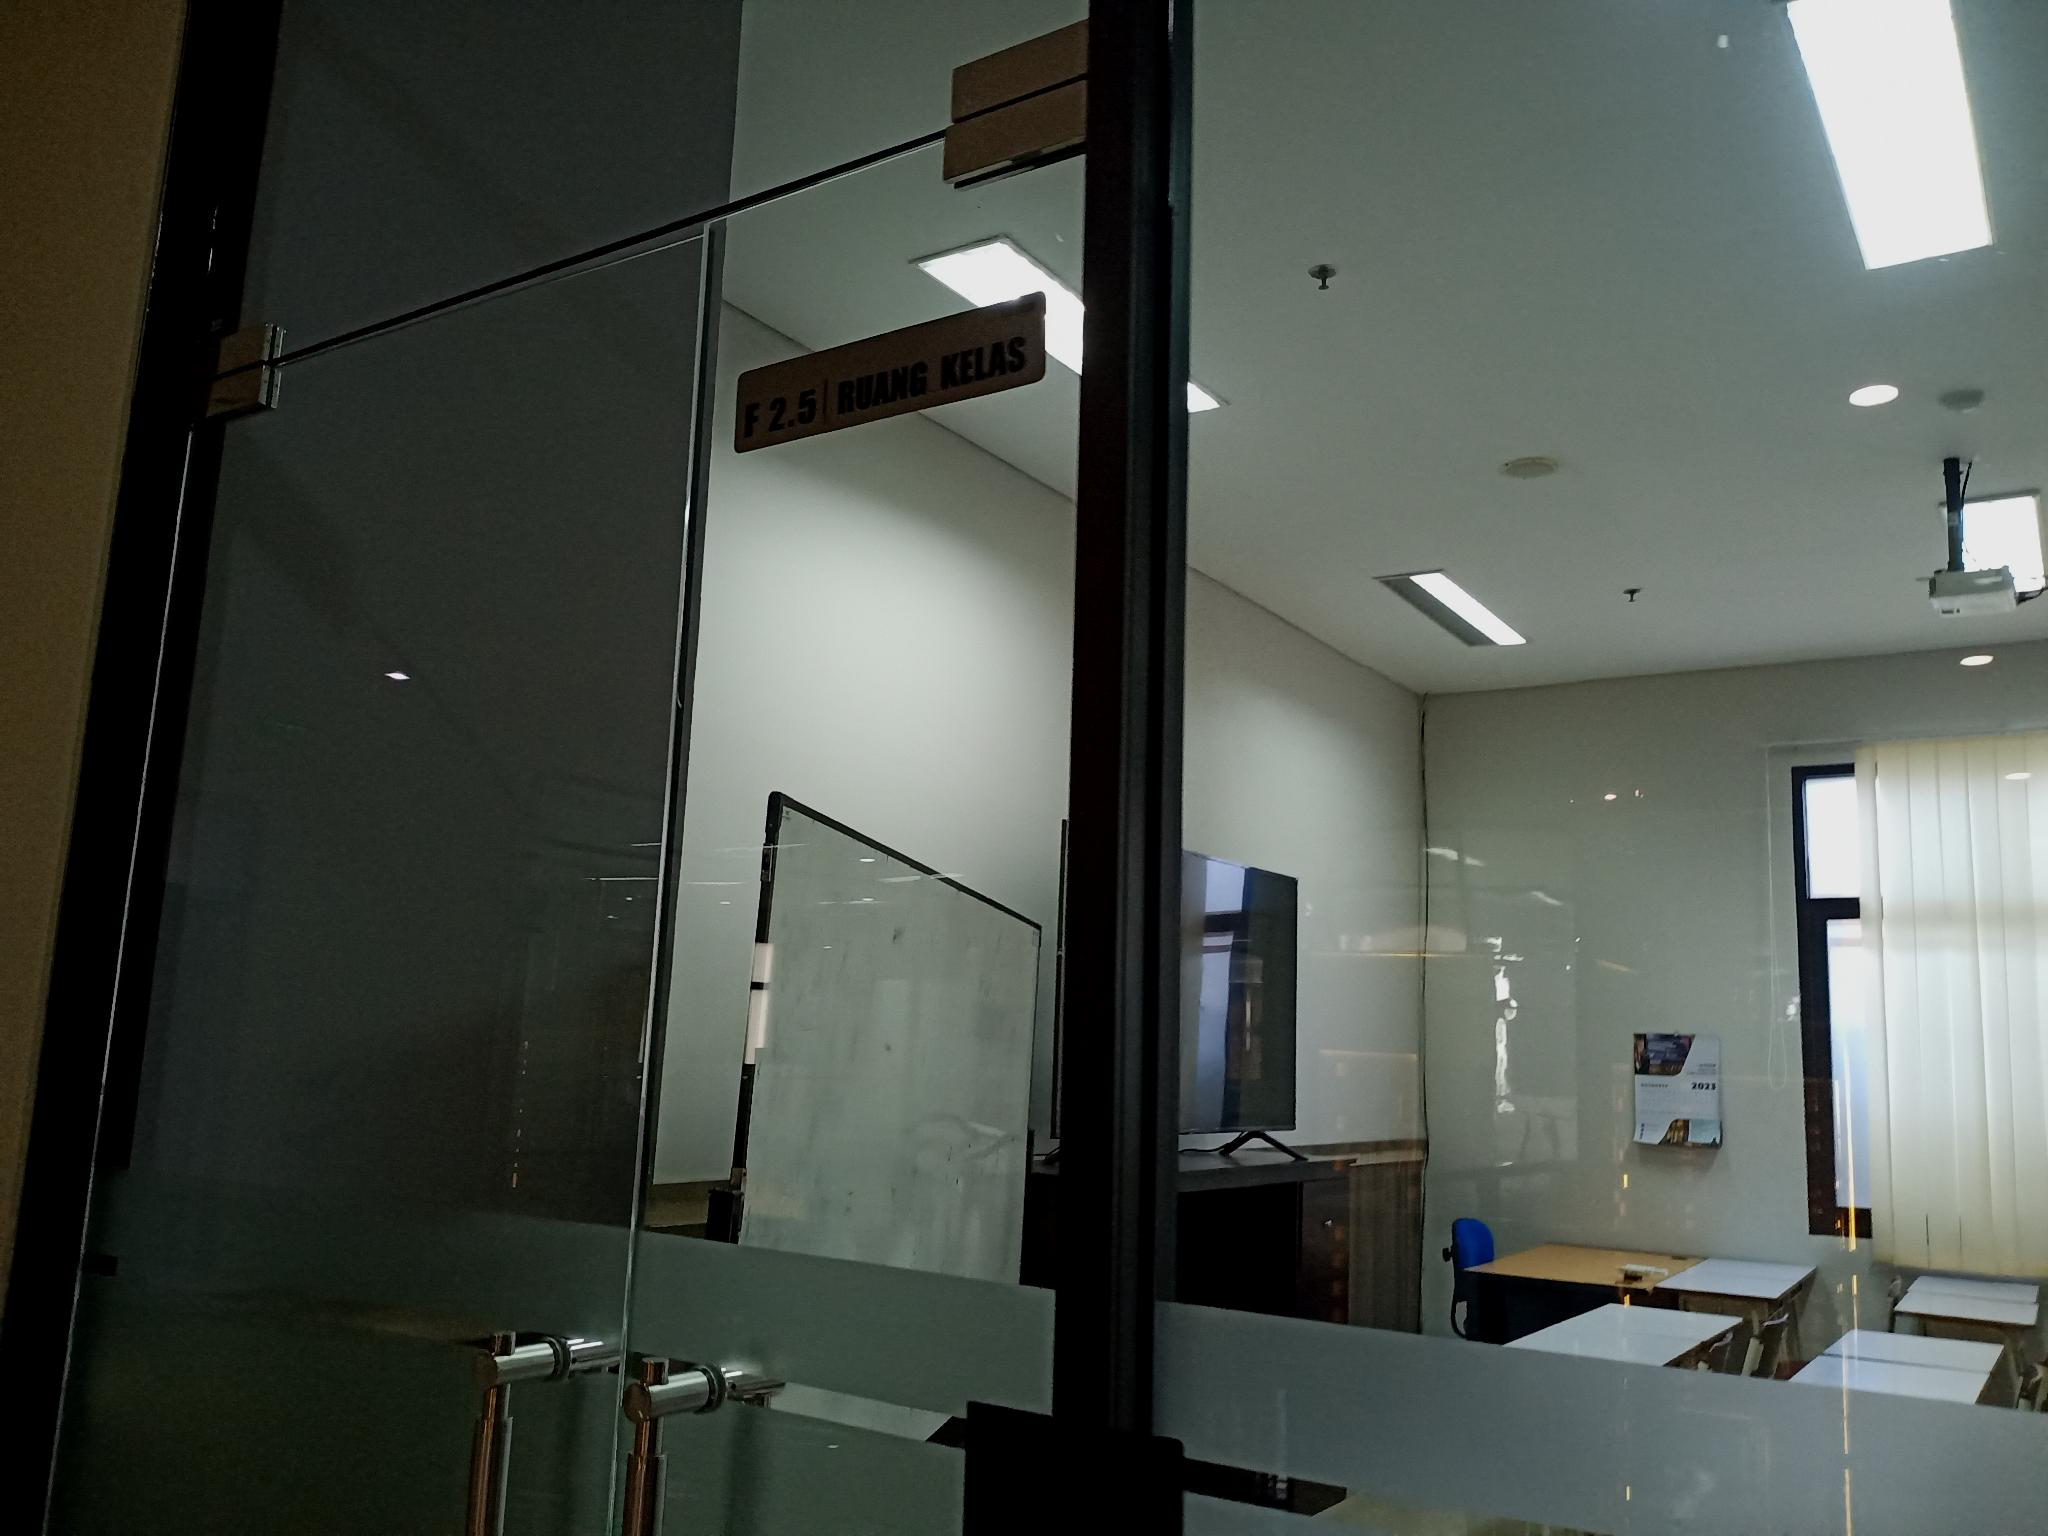plate: (735, 292, 1047, 453)
